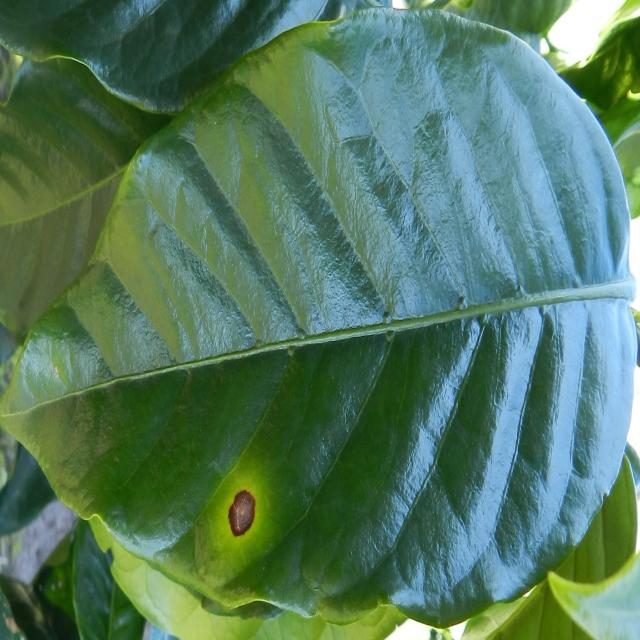Enfermedad-Mancha-de-hierro: (0, 9, 640, 640)
